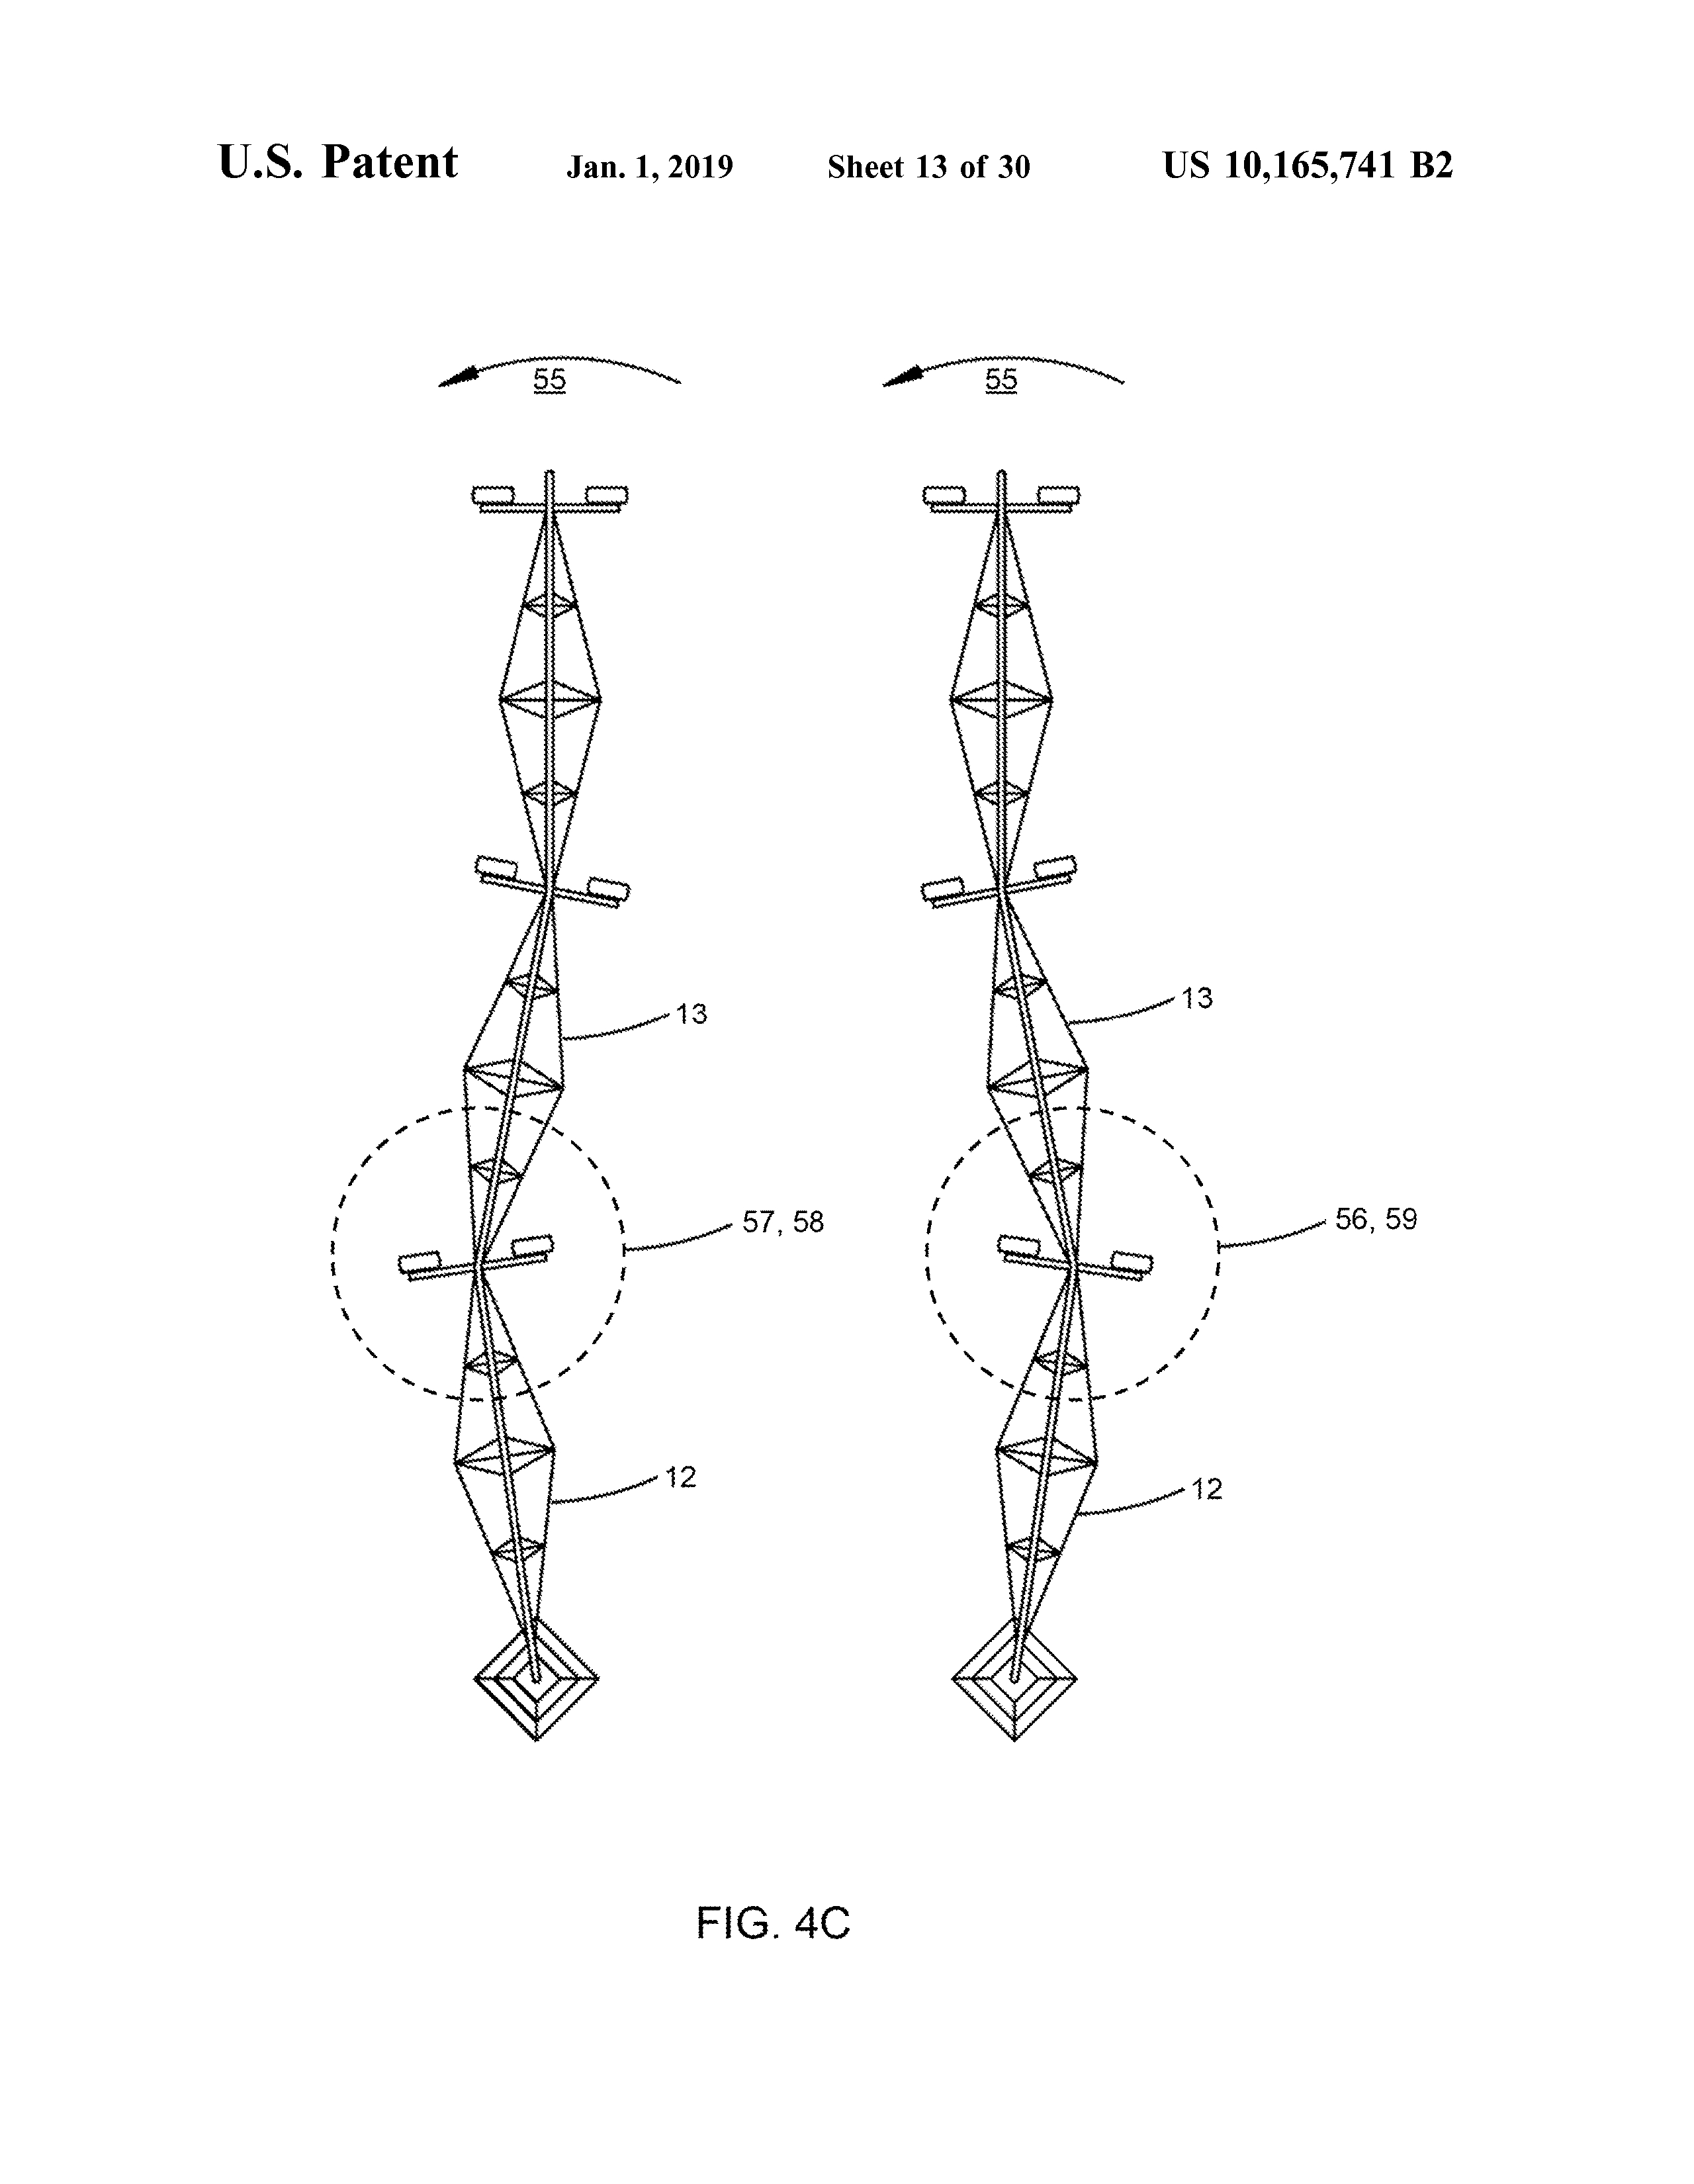patent image: (277, 295, 1439, 1972)
